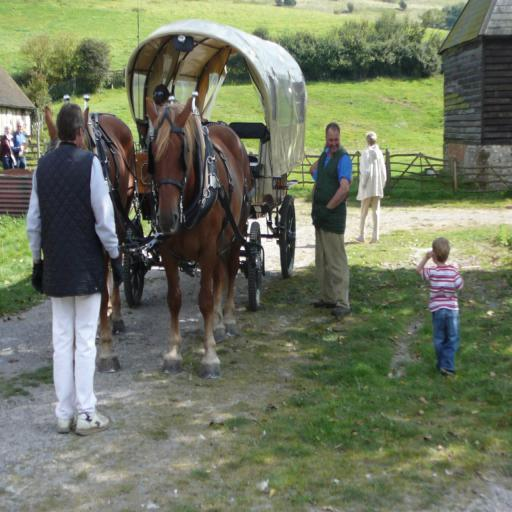Horse: (146, 97, 252, 377), (45, 106, 136, 376)
